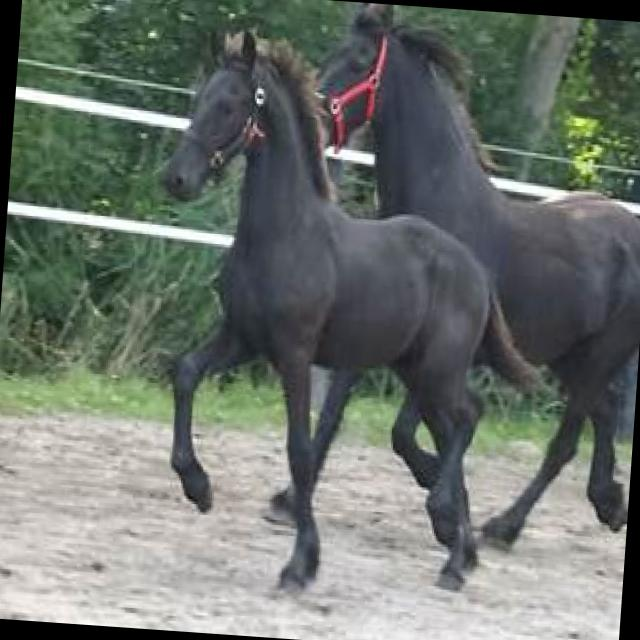horse: (8, 11, 506, 547), (309, 0, 640, 225)
